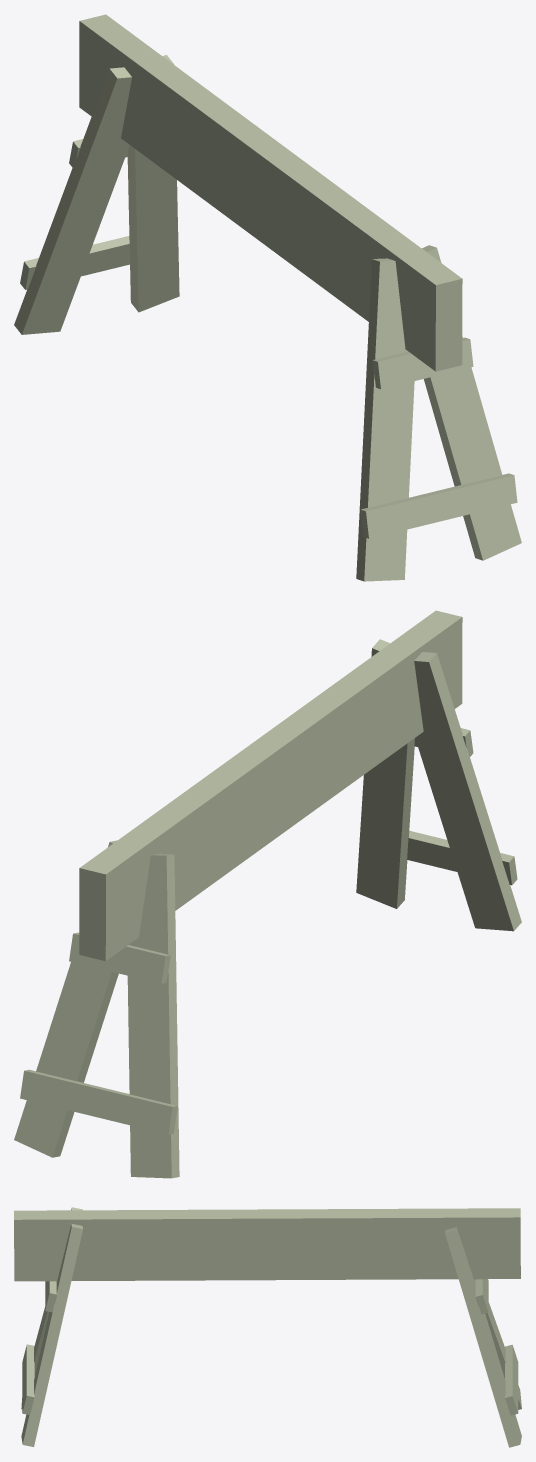
The model's file is barricade.fbx.
The picture shows the model from 3 angles, top to bottom: view 1: azimuth 30°, elevation 25°; view 2: azimuth 150°, elevation 25°; view 3: azimuth 270°, elevation 25°; orthographic projection. The views are drawn at different scales.
Visible parts, largest first — view 1: Barricade, Leg1, Leg2; view 2: Barricade, Leg2, Leg1; view 3: Barricade, Leg2, Leg1.
Boxes of the visible parts, left/top/right/bottom form: Barricade: left=79, top=14, right=462, bottom=371; Leg1: left=356, top=245, right=521, bottom=581; Leg2: left=14, top=55, right=179, bottom=334; Barricade: left=79, top=610, right=462, bottom=961; Leg2: left=14, top=840, right=179, bottom=1178; Leg1: left=356, top=639, right=521, bottom=931; Barricade: left=14, top=1208, right=520, bottom=1281; Leg2: left=445, top=1227, right=521, bottom=1447; Leg1: left=21, top=1207, right=82, bottom=1446.
Bounding box in the file's own units: 381 × 692 × 1496.
